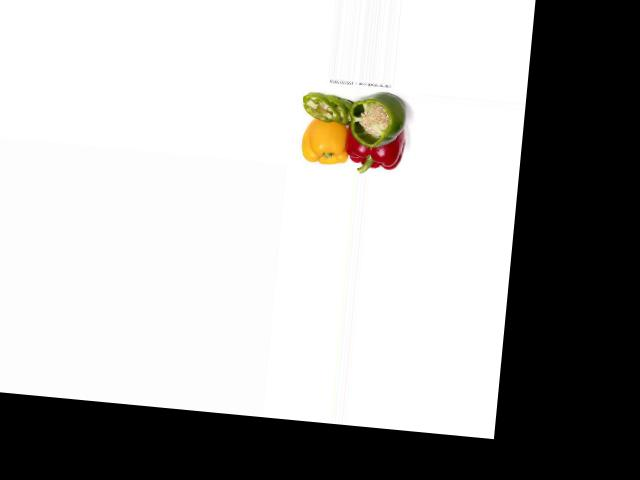bell_pepper: (346, 93, 412, 152)
